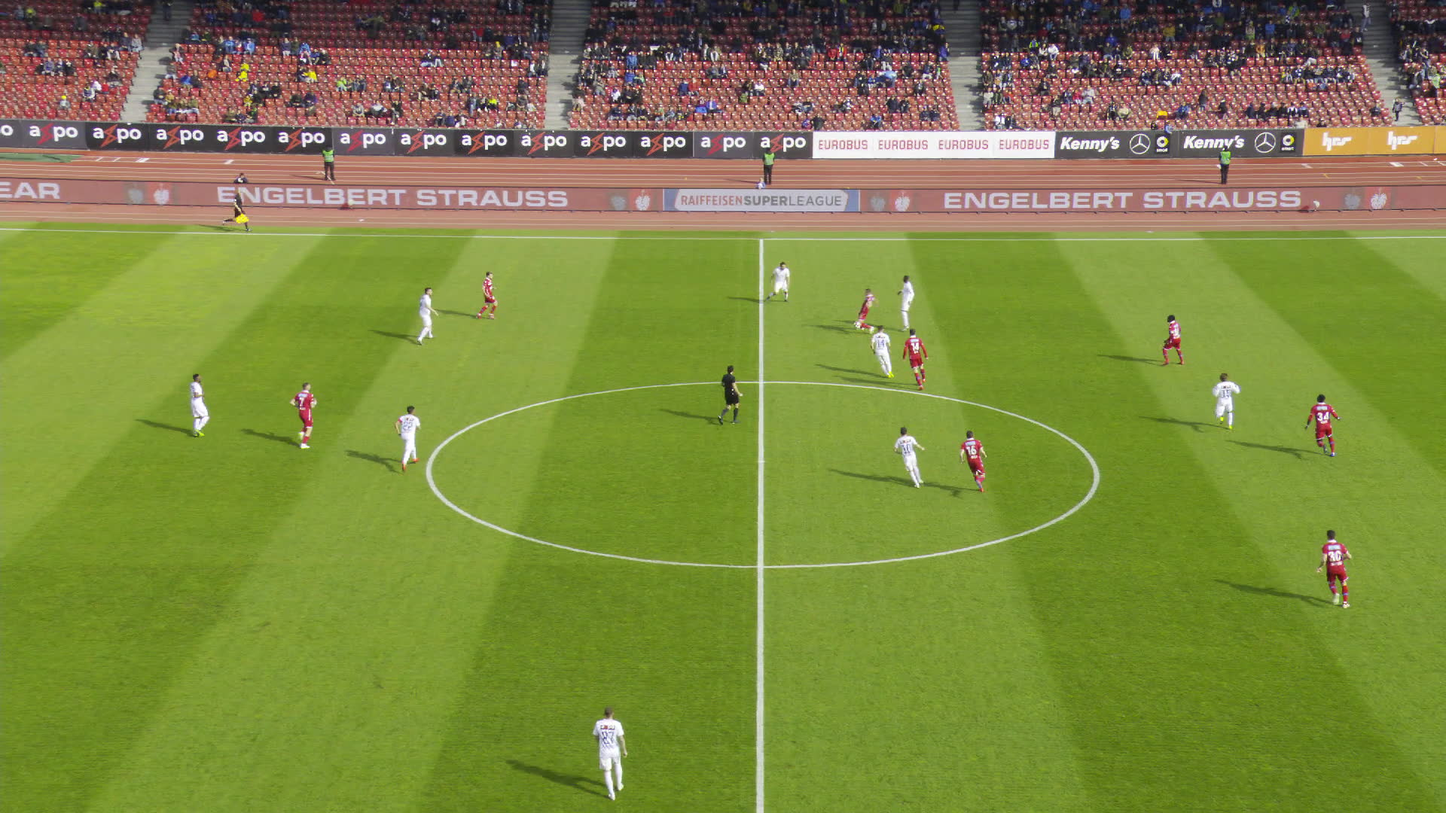ball: (853, 322, 862, 328)
player: (593, 705, 631, 800), (1317, 528, 1353, 614), (1301, 390, 1341, 463), (288, 379, 325, 450), (183, 371, 218, 438), (959, 429, 990, 500), (894, 427, 926, 490), (1209, 369, 1240, 434), (397, 406, 425, 470), (1159, 313, 1190, 370), (902, 326, 930, 389), (850, 285, 881, 336), (870, 322, 897, 380), (761, 258, 793, 306), (420, 285, 443, 346), (474, 271, 502, 320), (895, 273, 915, 336)
referee: (720, 364, 747, 428), (221, 188, 252, 231)
